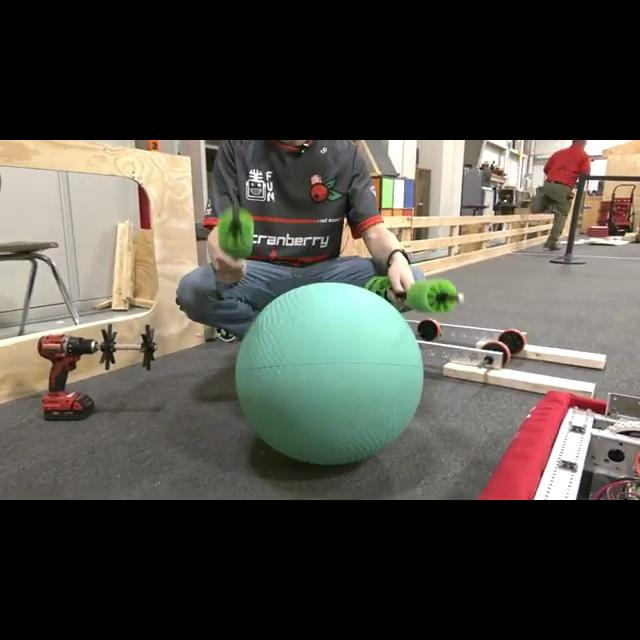ALGAE: (233, 280, 425, 466)
